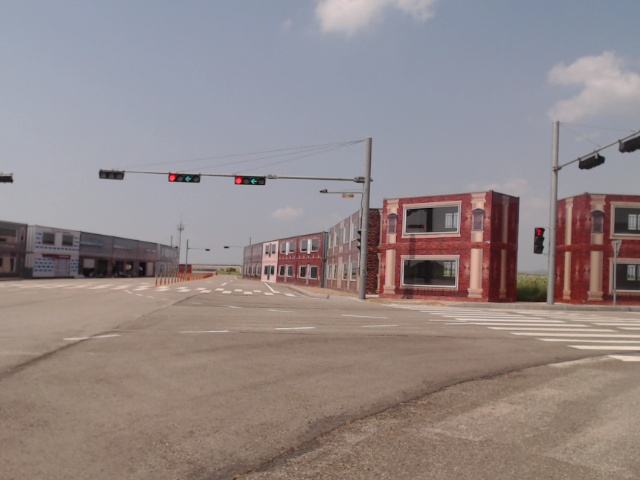left_green_4: (169, 174, 200, 183), (235, 176, 266, 185)
